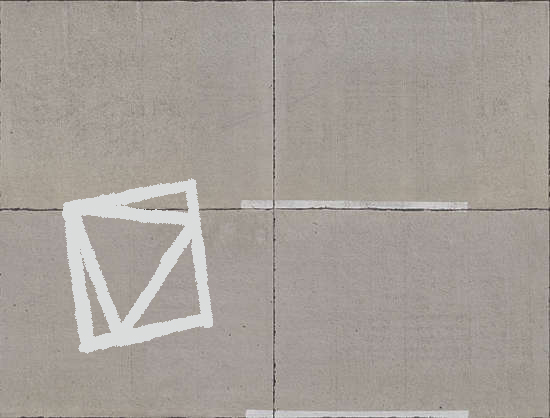marker: (60, 175, 215, 354)
